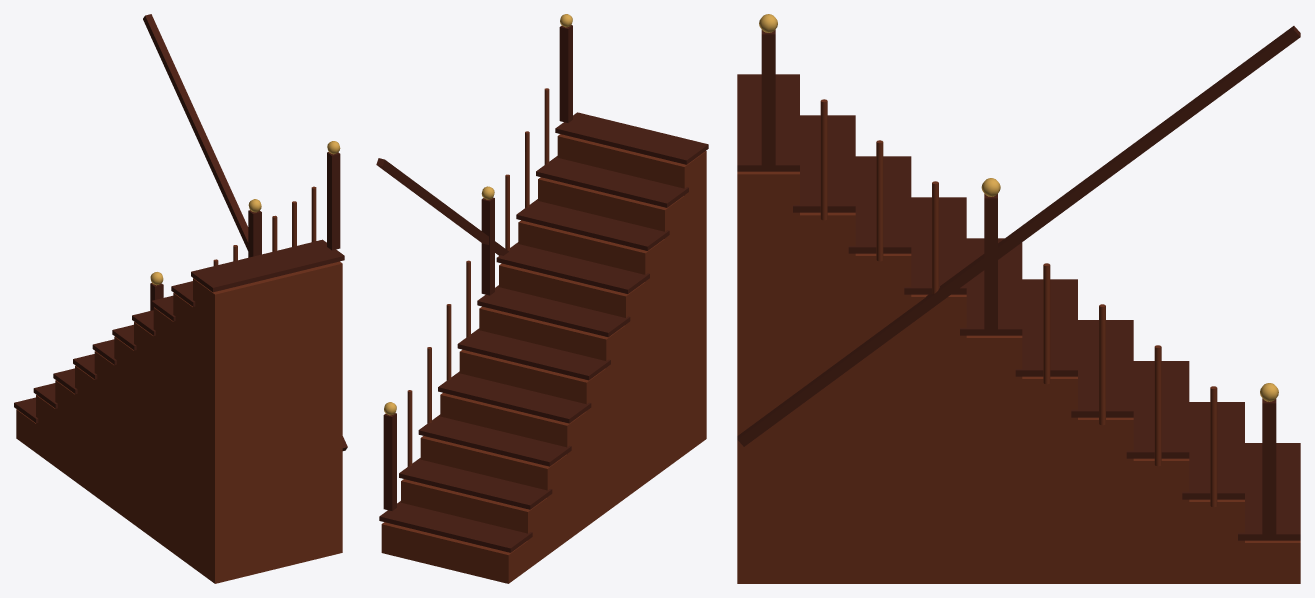
The model's file is pal1-inn-stairs.glb.
3 renders of one model, left to right at view 1: azimuth 30°, elevation 25°; view 2: azimuth 150°, elevation 25°; view 3: azimuth 270°, elevation 25°, orthographic. The views are drawn at different scales.
Bounding box in the file's own units: 1.3 × 3.62 × 3.24.
